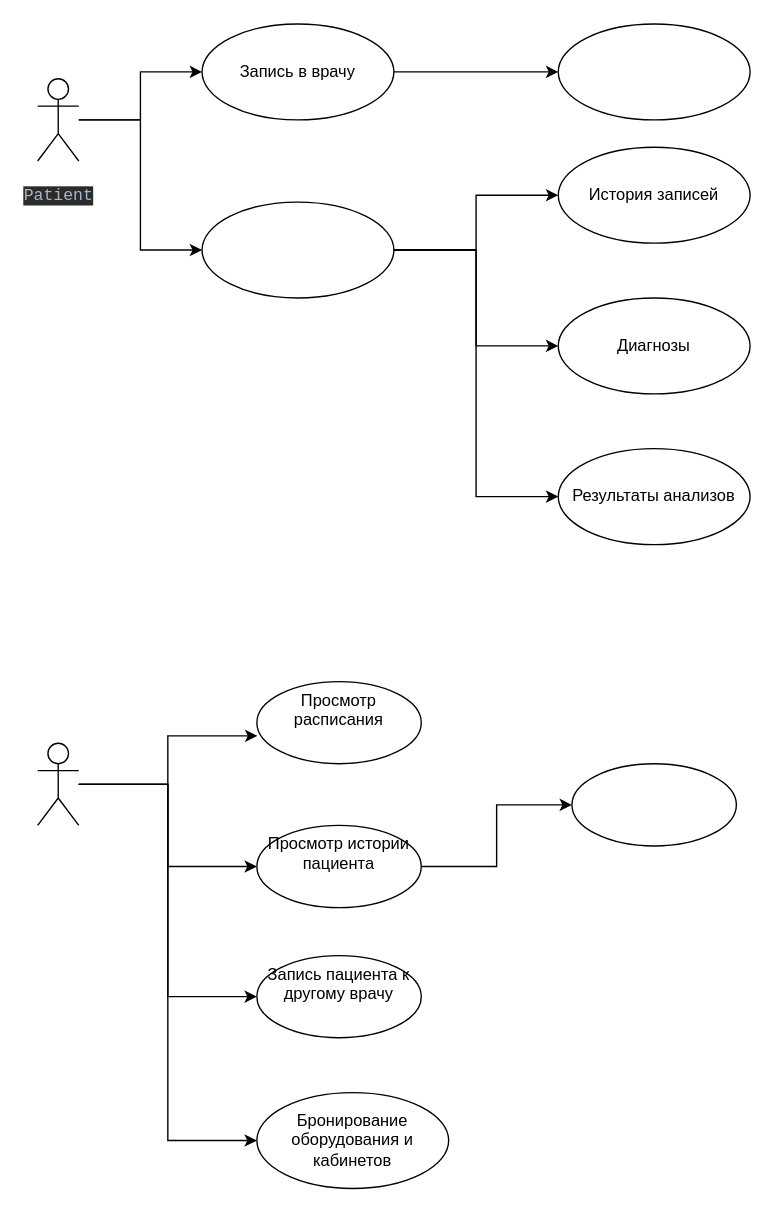
This 774x1212 diagram has some shape labels left out. Each missing label, with the box of its shape:
Врач: (36, 742, 79, 825)
Выбор врача, и даты приема: (557, 23, 750, 120)
Медкарта: (201, 201, 394, 298)
Результаты анализов и исследований: (571, 762, 736, 846)
